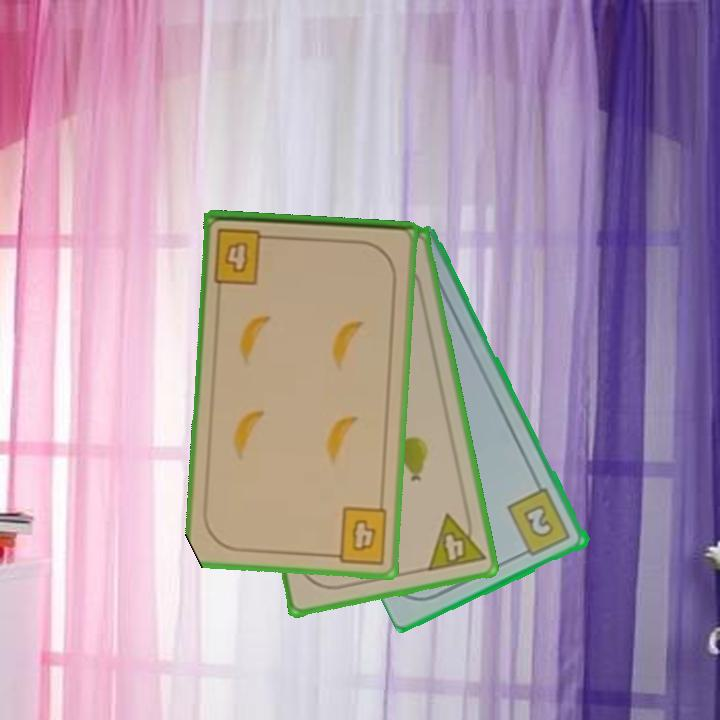2b: (504, 485, 574, 560)
4b: (210, 224, 277, 287), (325, 503, 390, 567)
4p: (424, 507, 488, 574)
